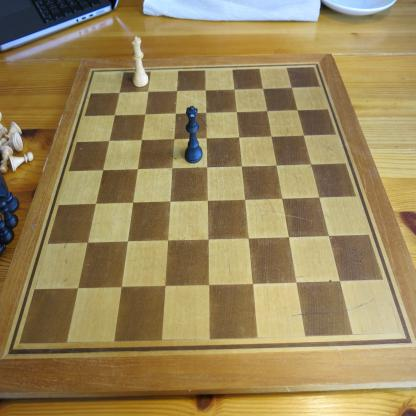black-pawn: (1, 198, 19, 230), (1, 214, 15, 247)
black-queen: (184, 105, 204, 164)
white-pawn: (8, 151, 34, 172), (0, 144, 14, 175)
white-queen: (130, 35, 149, 88)
